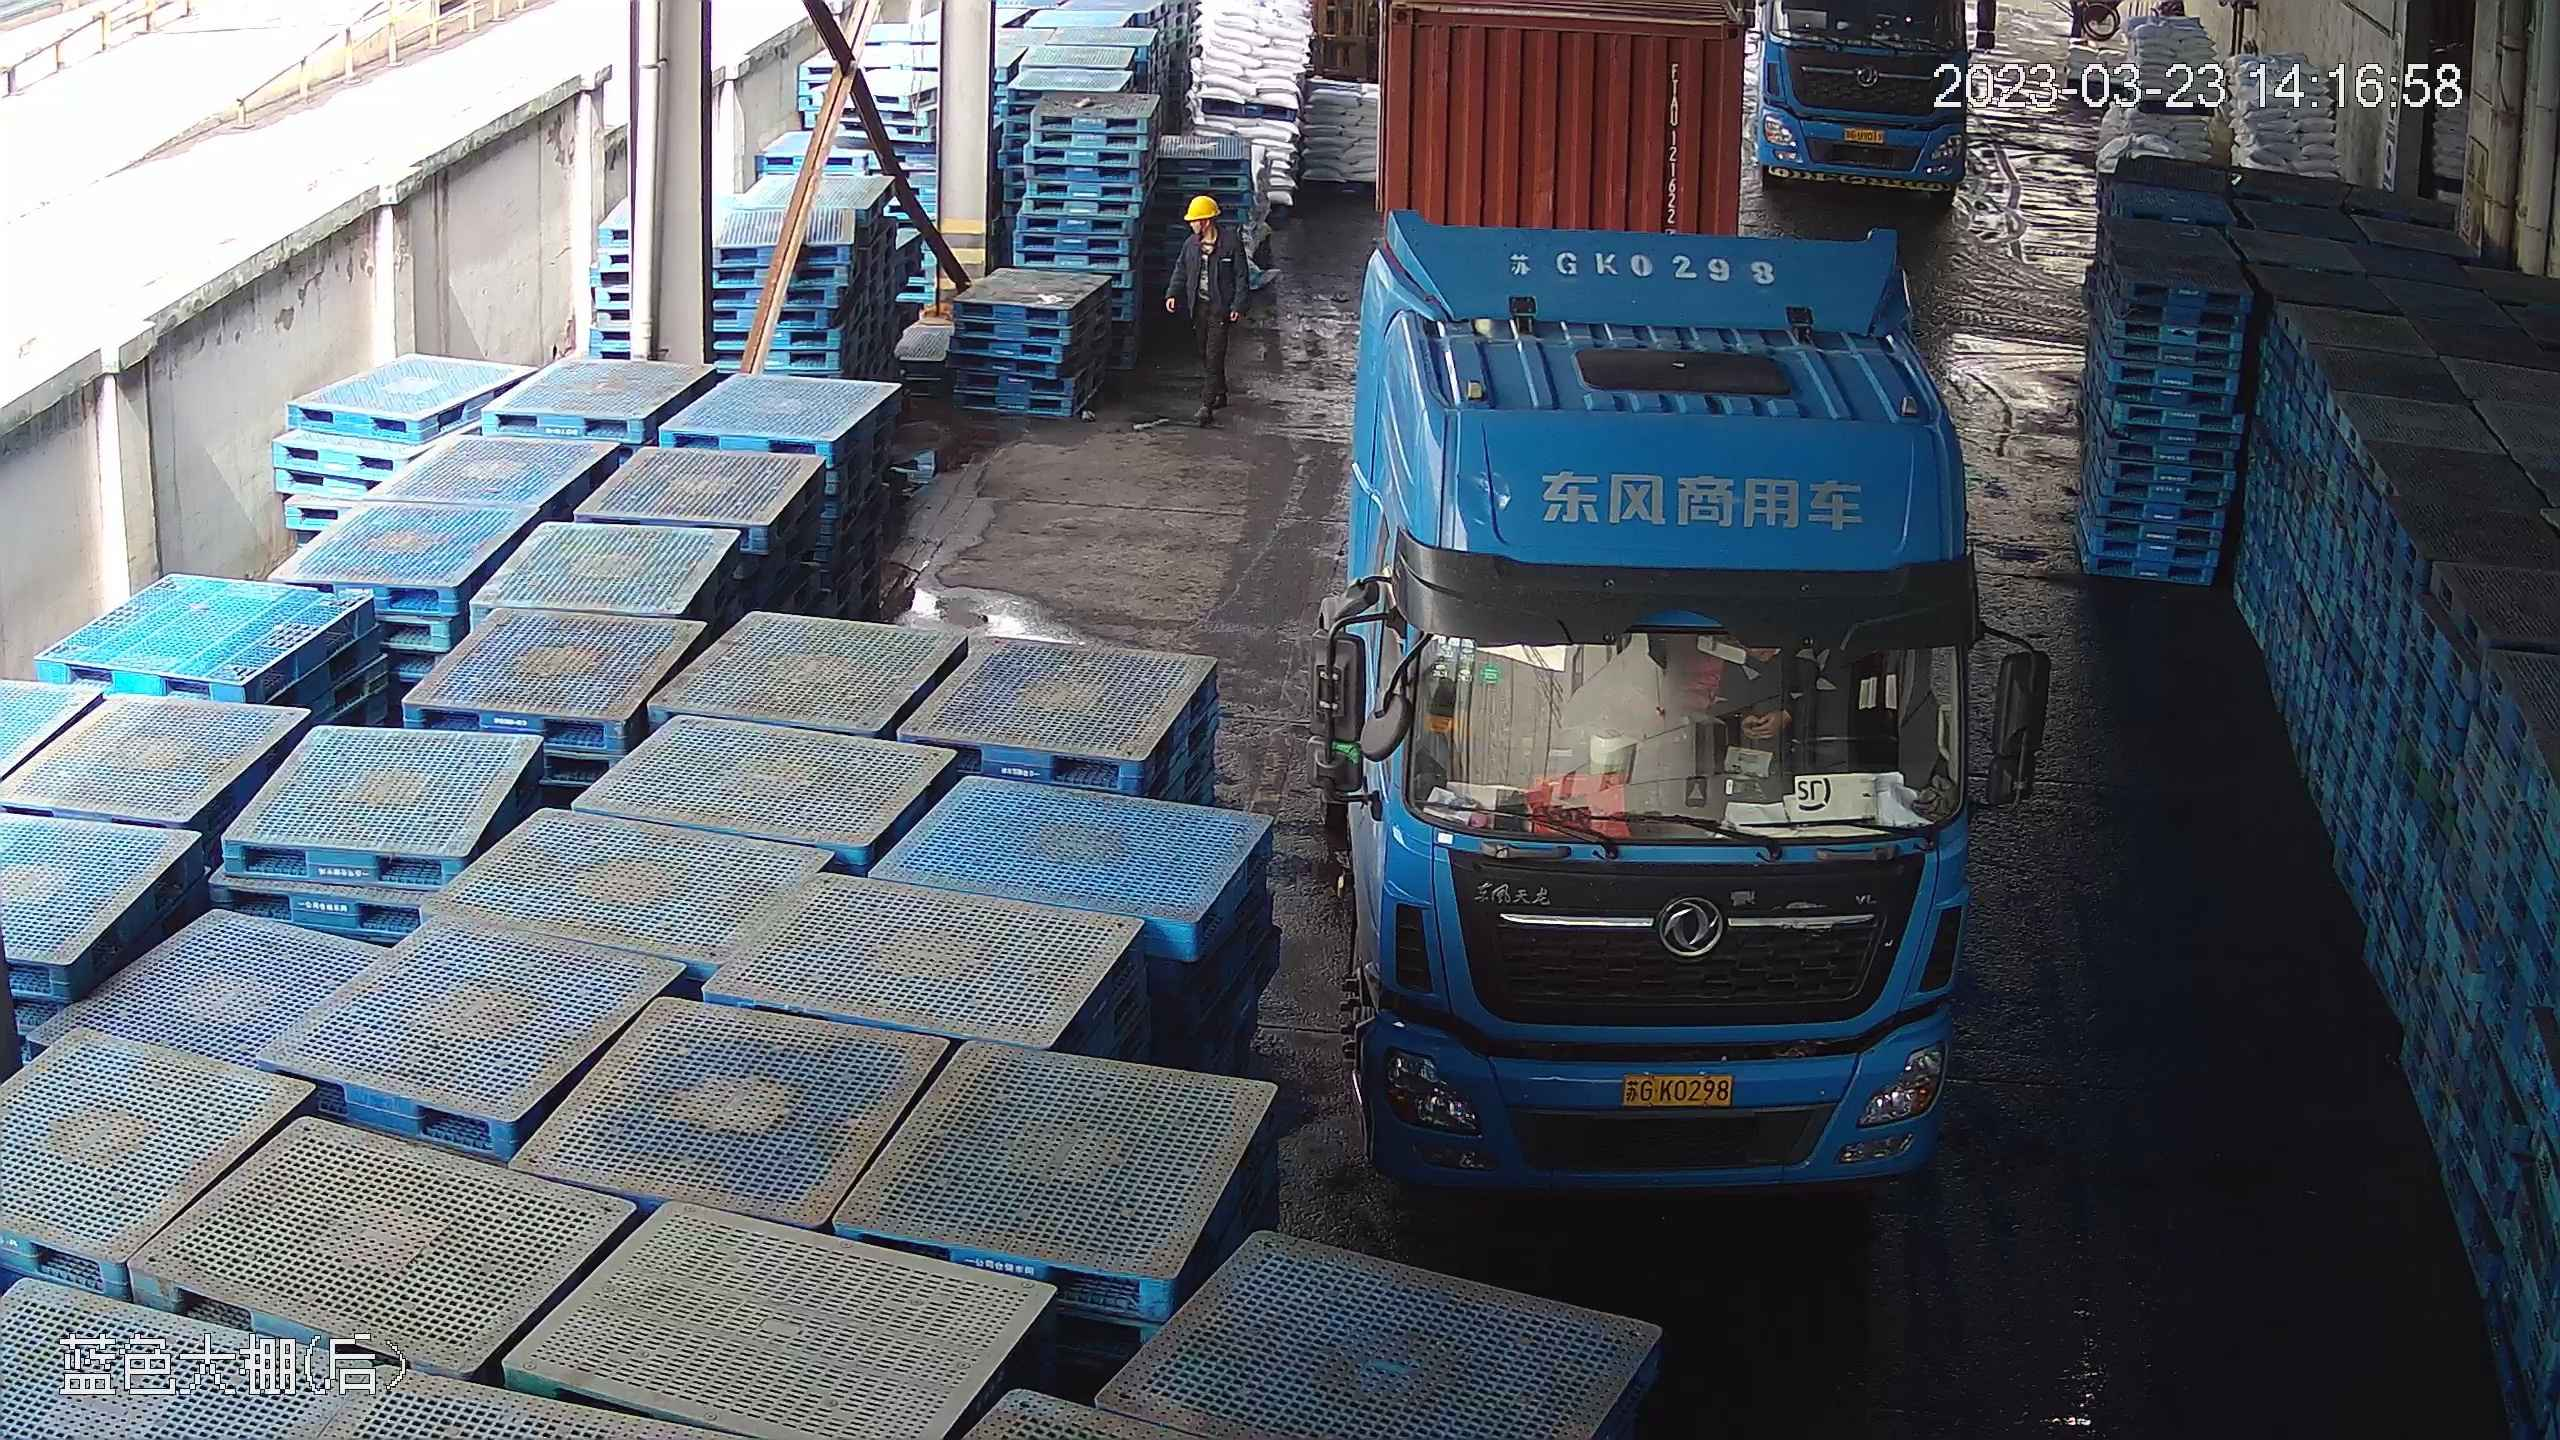head: (1176, 194, 1249, 266)
helmet: (1182, 192, 1221, 220)
people: (1175, 189, 1257, 429)
truck: (1304, 1, 1999, 1199), (1746, 0, 1985, 190)
